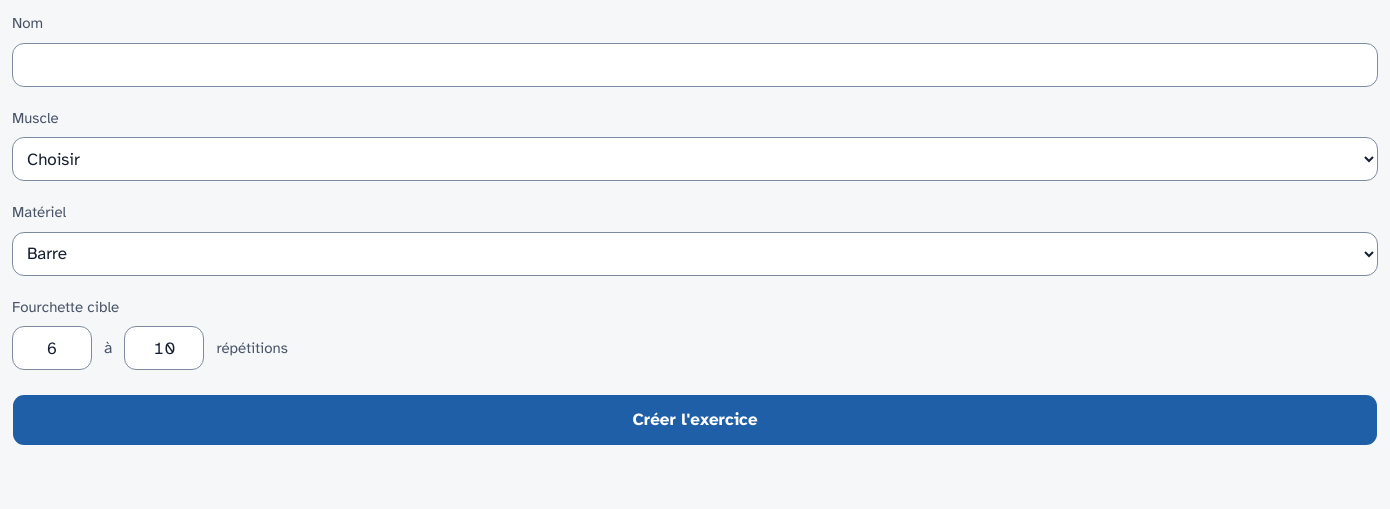
Test case: ExerciseForm, création › refuse une fourchette inversée sans appeler l'API
In the field labelled "Nom": (695, 64) [12,42,1378,86], type "Squat"
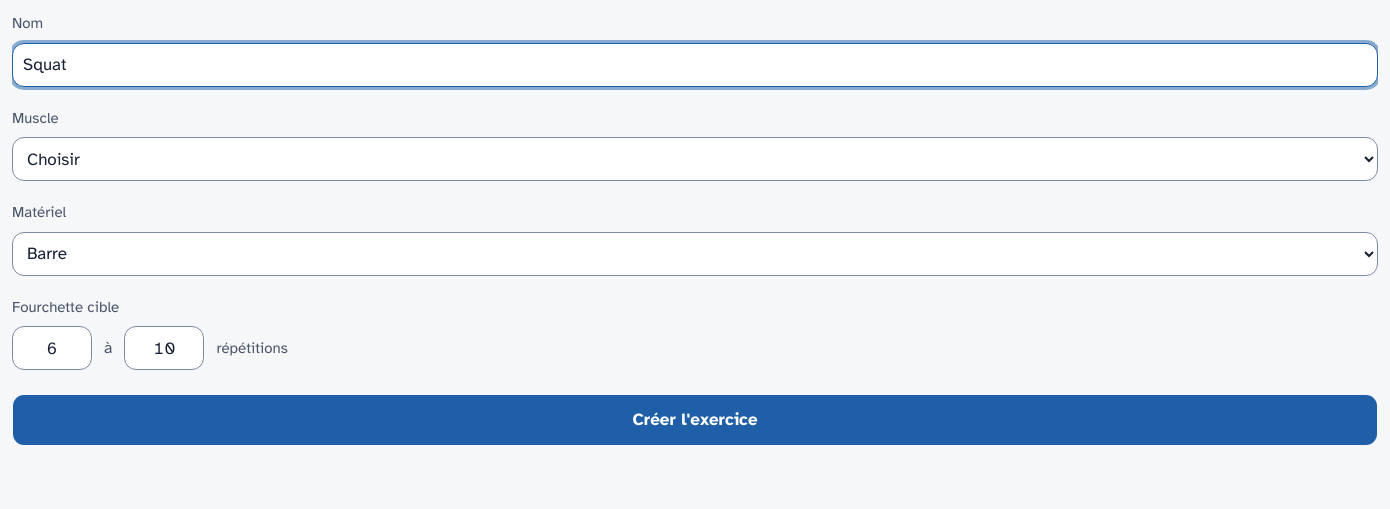
Select "Jambes" in the dropdown labelled "Muscle": (695, 159) [12,137,1378,181]
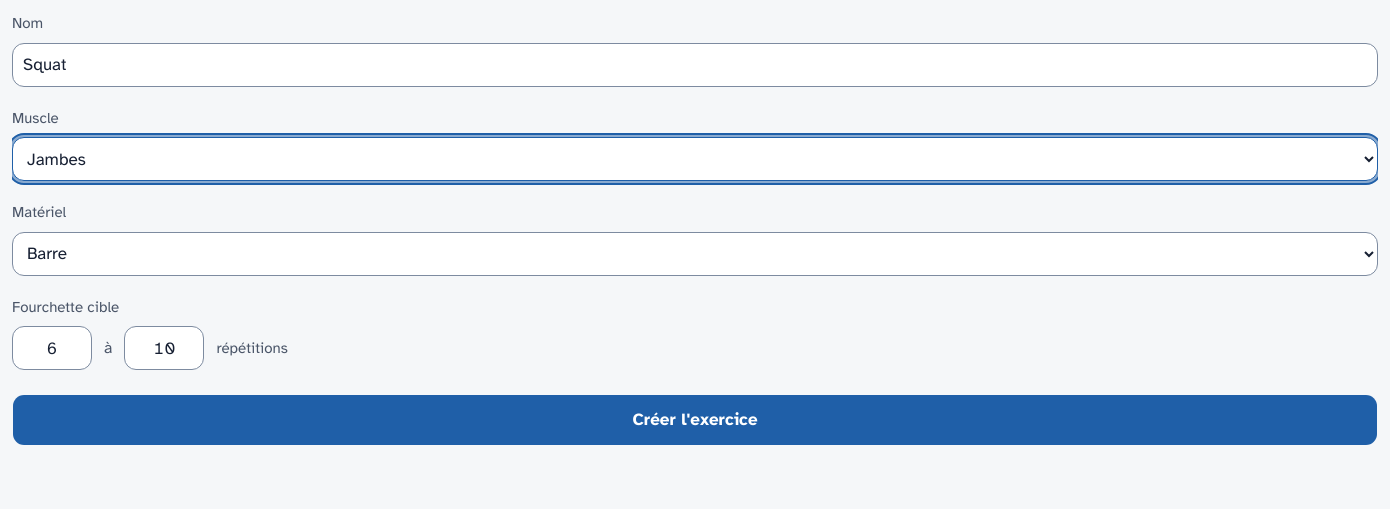
Replace the text in the field named "Répétitions minimum" with "12": (52, 348) [12,326,92,370]
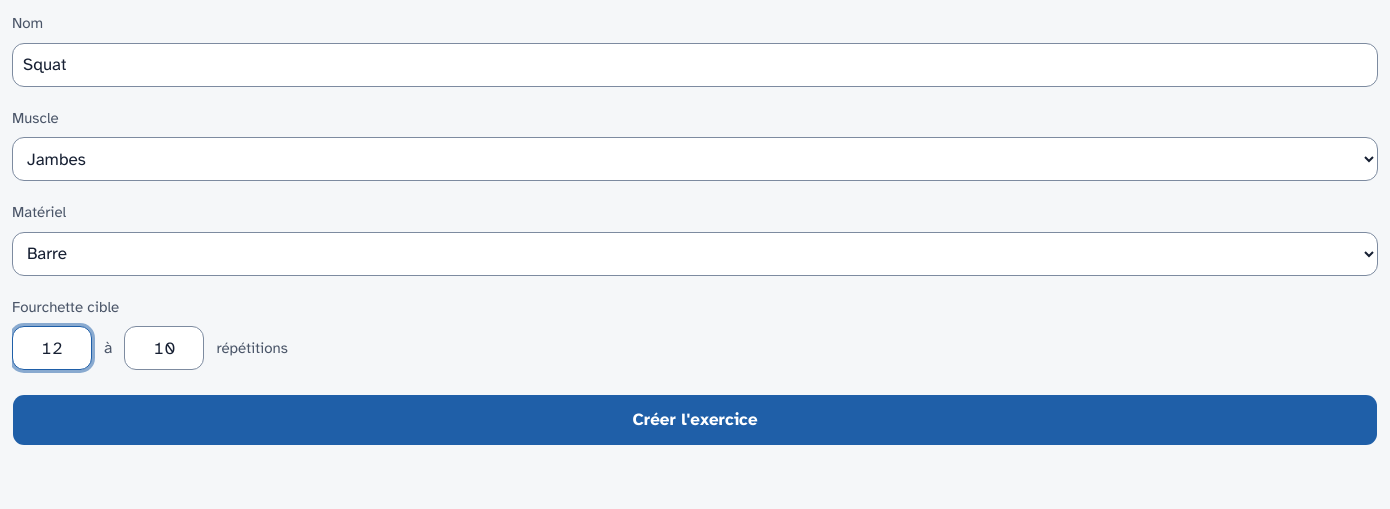
Click the button "Créer l'exercice": (695, 420) [12,394,1378,446]
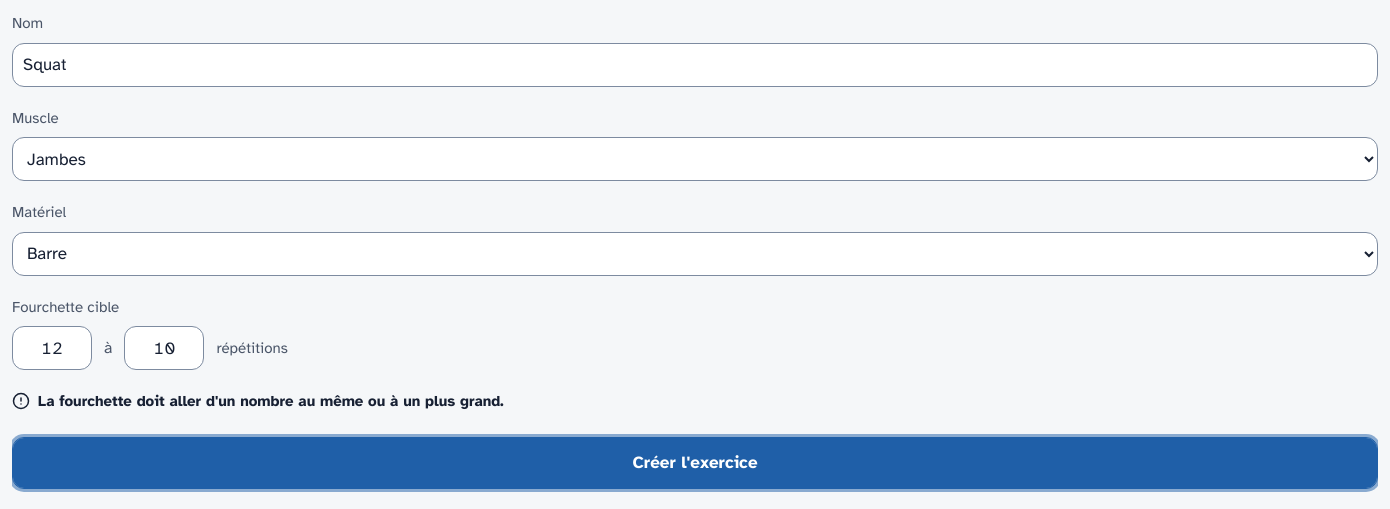
Expected: the message reads "La fourchette doit aller d'un nombre au même ou à un plus grand.", [38,392,504,410]
